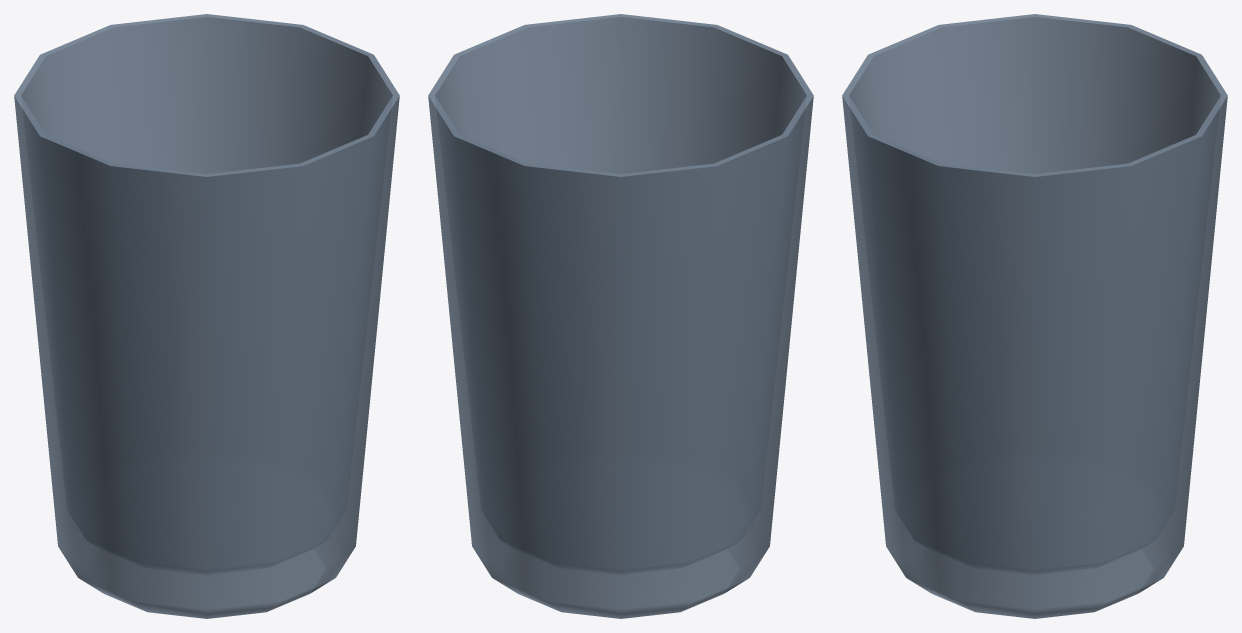
The model's file is mesh_glass_01.fbx.
The picture shows the model from 3 angles, left to right: view 1: azimuth 30°, elevation 25°; view 2: azimuth 150°, elevation 25°; view 3: azimuth 270°, elevation 25°; orthographic projection.
Visible parts, largest first — view 1: mesh_glass_01; view 2: mesh_glass_01; view 3: mesh_glass_01.
Boxes of the visible parts, x1,y1,x2,y2 form: mesh_glass_01: (14, 14, 399, 618); mesh_glass_01: (428, 14, 813, 618); mesh_glass_01: (842, 14, 1227, 618).
Bounding box in the file's own units: 0.1208 × 0.1635 × 0.1208.
